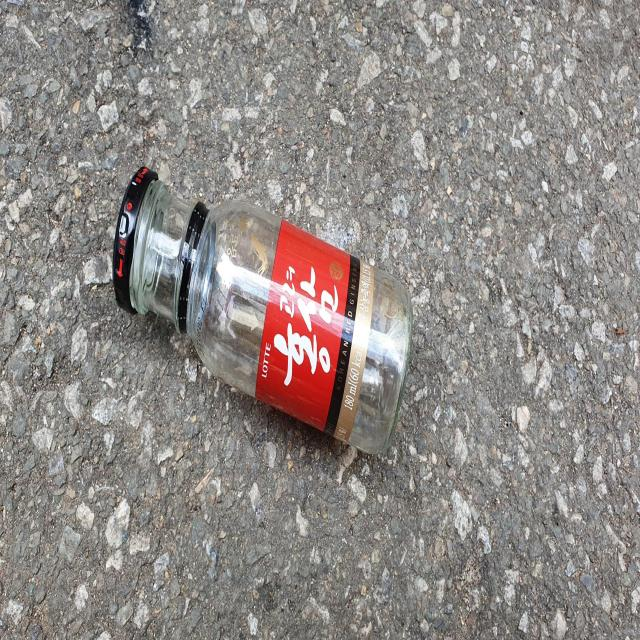glass: (112, 165, 413, 453)
